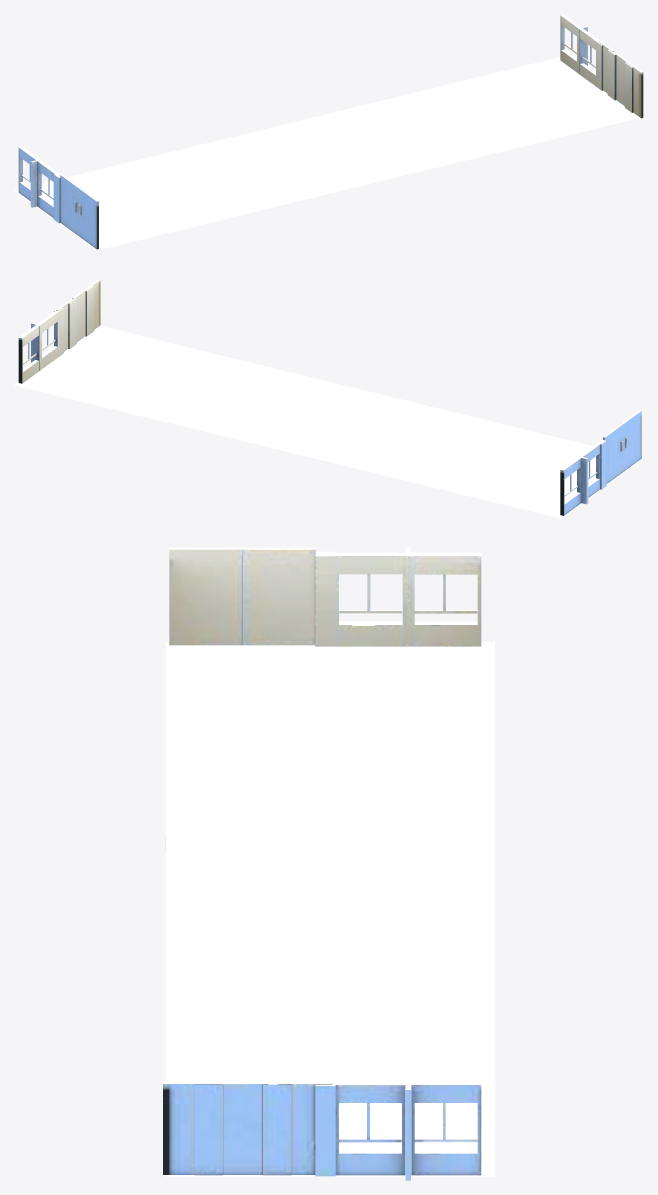
3 views of the same model, one above another, from view 1: azimuth 30°, elevation 25°; view 2: azimuth 150°, elevation 25°; view 3: azimuth 270°, elevation 25° (orthographic). The views are drawn at different scales.
Visible parts, largest first — view 1: hb_1floor_zhongting (1)_0; view 2: hb_1floor_zhongting (1)_0; view 3: hb_1floor_zhongting (1)_0.
Part boxes in pixels (bbox=[...]): hb_1floor_zhongting (1)_0: bbox=[14, 14, 643, 250]; hb_1floor_zhongting (1)_0: bbox=[14, 279, 643, 518]; hb_1floor_zhongting (1)_0: bbox=[163, 547, 494, 1180].
Bounding box in the file's own units: 4.82 × 0.3977 × 1.25.
Materials: 1 (1 with a texture image).
